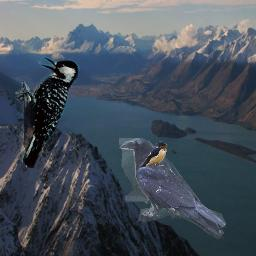Crow: (119, 138, 226, 239)
Swallow: (138, 141, 168, 168)
Woodpecker: (15, 55, 81, 168)
